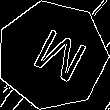M_SW: (20, 22, 85, 88)
